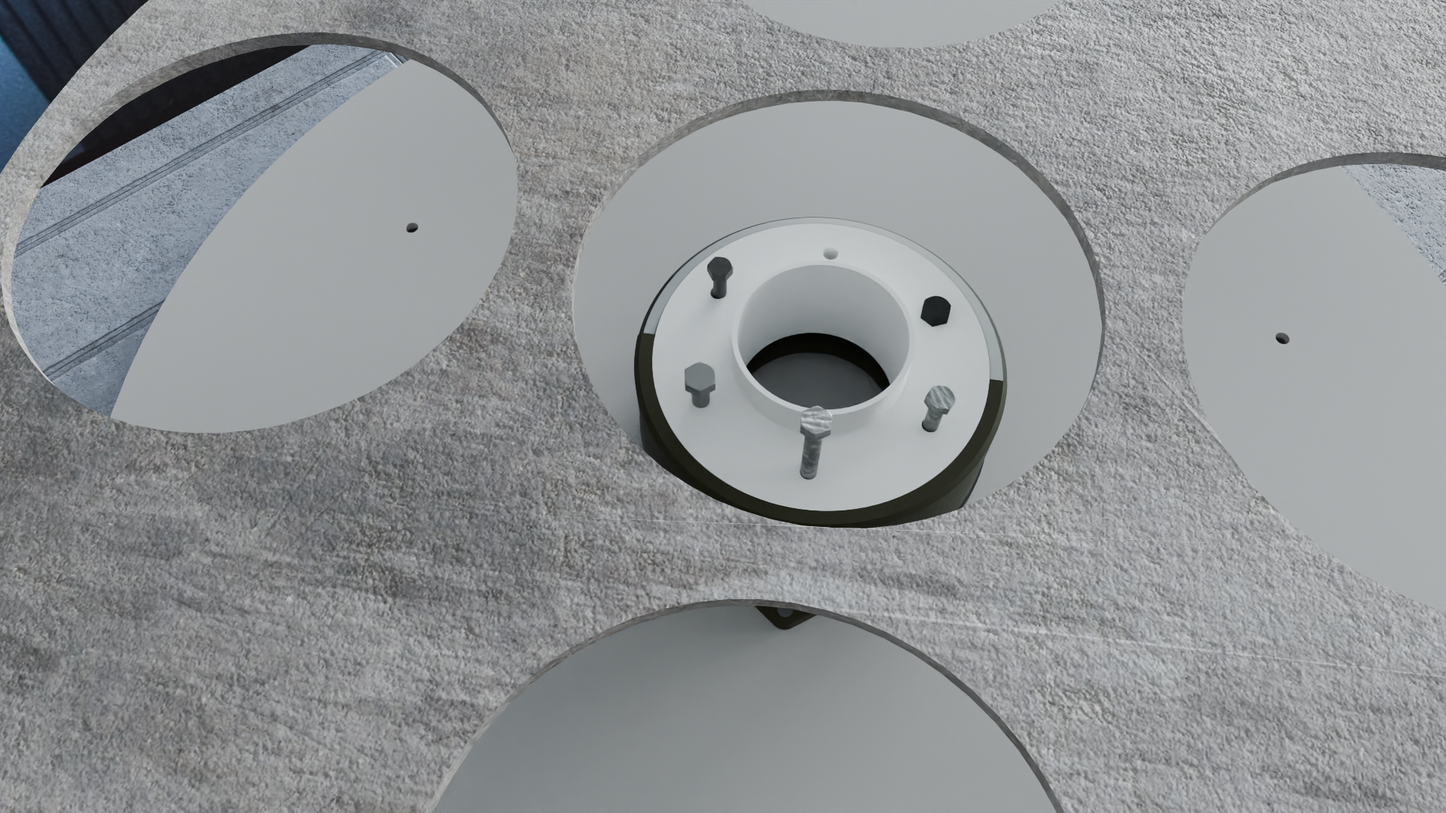bolt: (801, 406, 832, 436), (685, 361, 715, 391), (926, 385, 956, 410), (922, 296, 951, 321), (707, 257, 733, 276)
